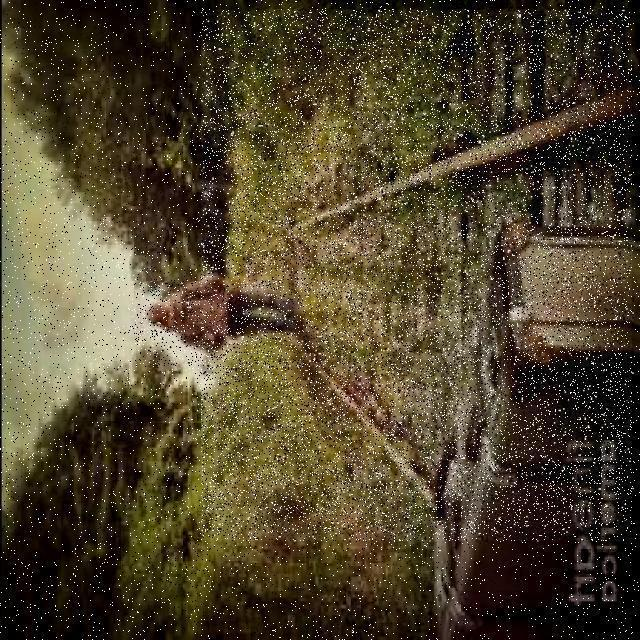rail: (202, 11, 633, 542)
